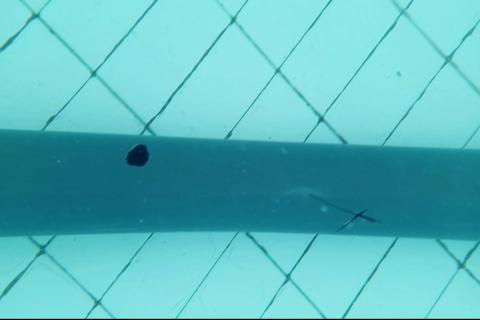kebocoran: (126, 142, 151, 167)
keretakan: (310, 192, 378, 231)
